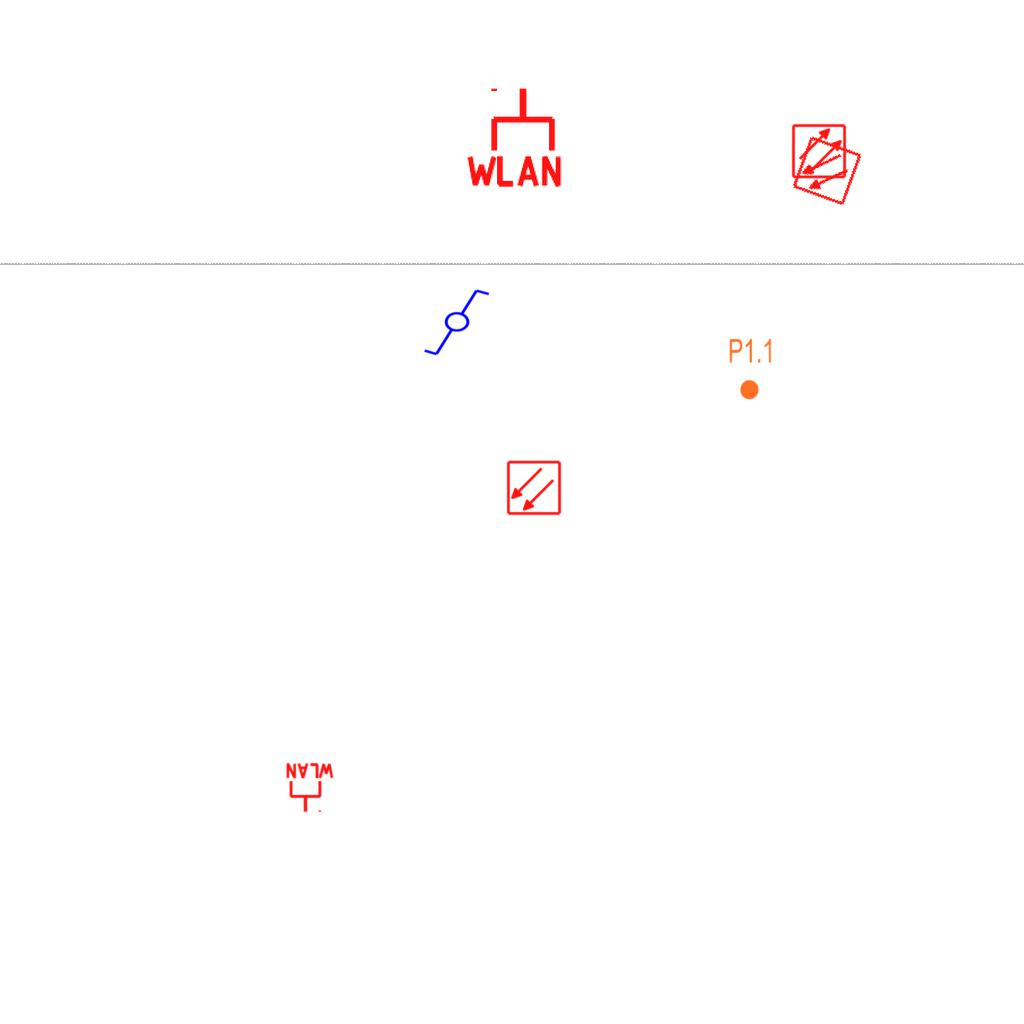Downlight_LED_Einbauleuchten_Flur: (728, 337, 774, 401)
RMO_Rauchmelder_optischer: (791, 135, 863, 207), (791, 123, 847, 179), (506, 460, 562, 516)
WLAN: (462, 84, 566, 189), (284, 762, 336, 814)
Wechselschalter: (422, 287, 500, 359)
